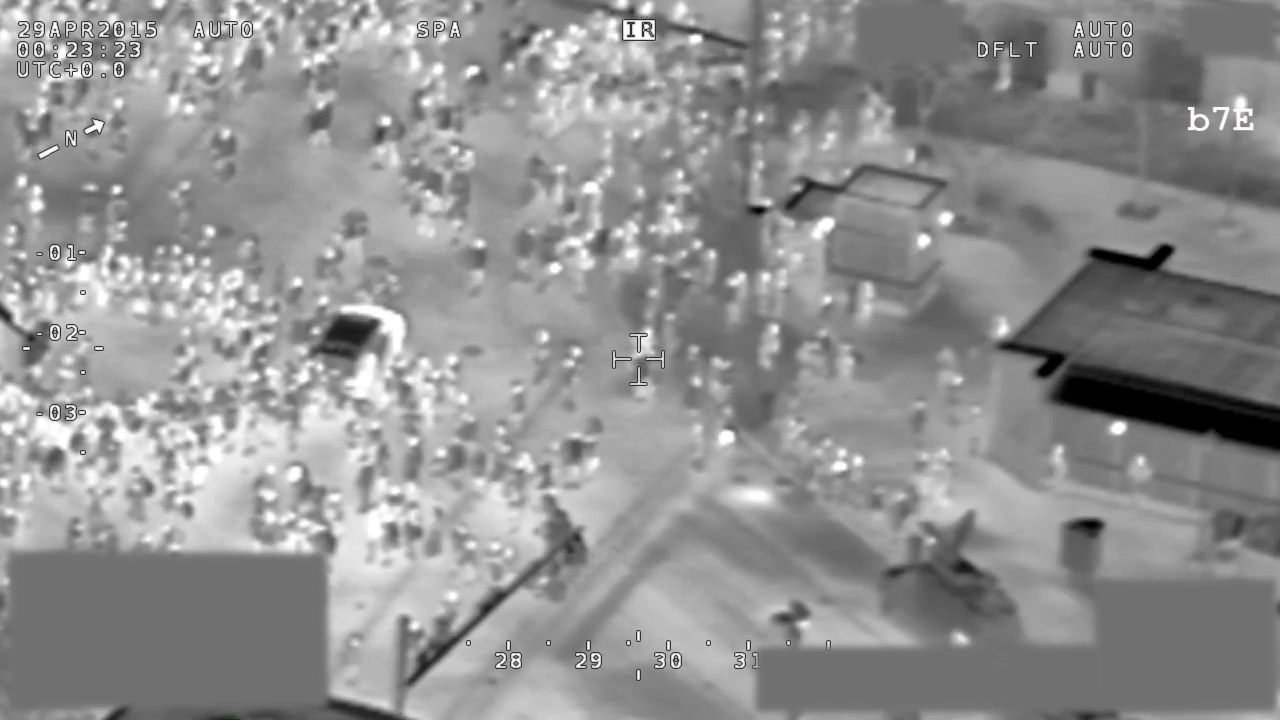vehicle: (875, 507, 1027, 648), (297, 299, 411, 409)
